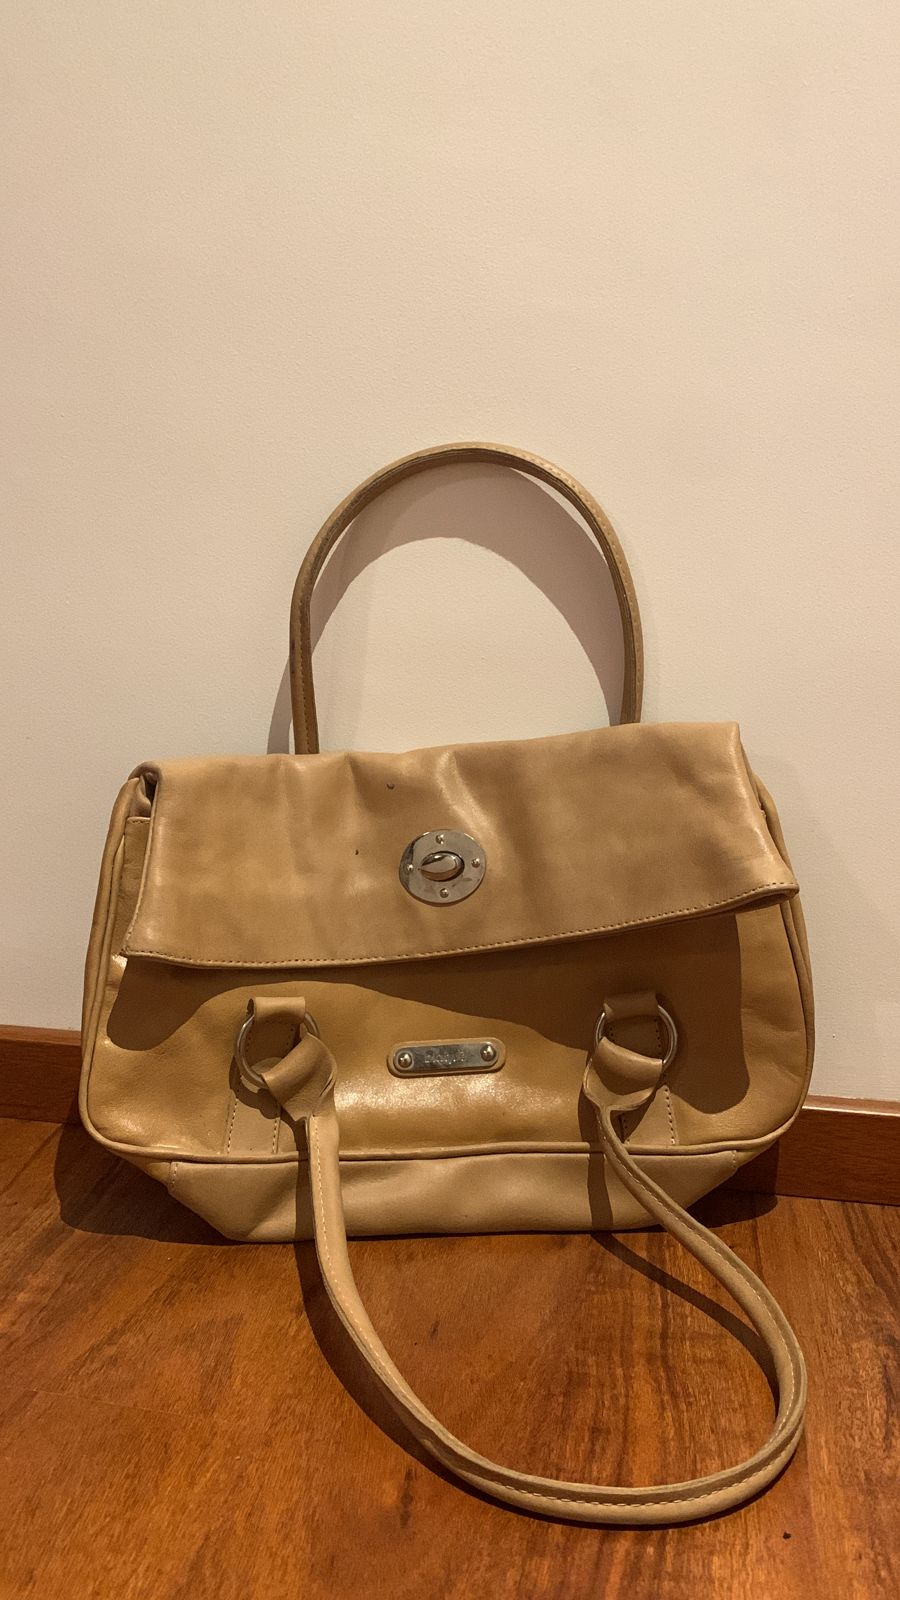cartera: (73, 419, 833, 1526)
cuero: (182, 789, 737, 1140)
